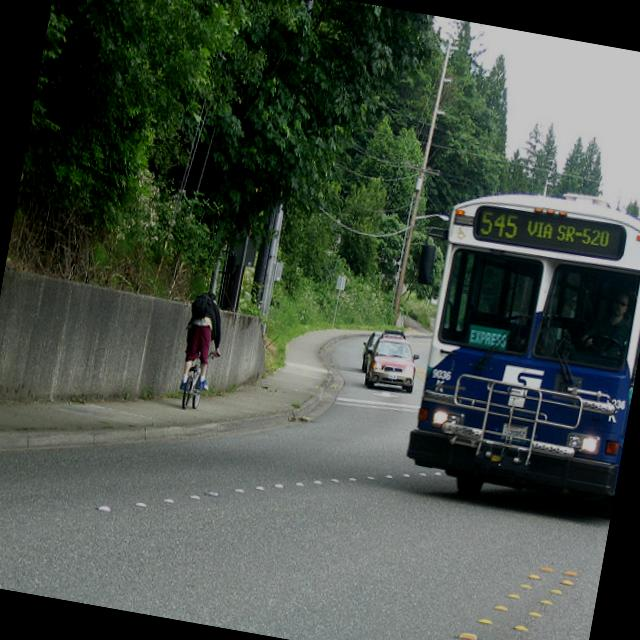Vehicle: (403, 174, 640, 527), (360, 330, 422, 396), (359, 331, 381, 374)
